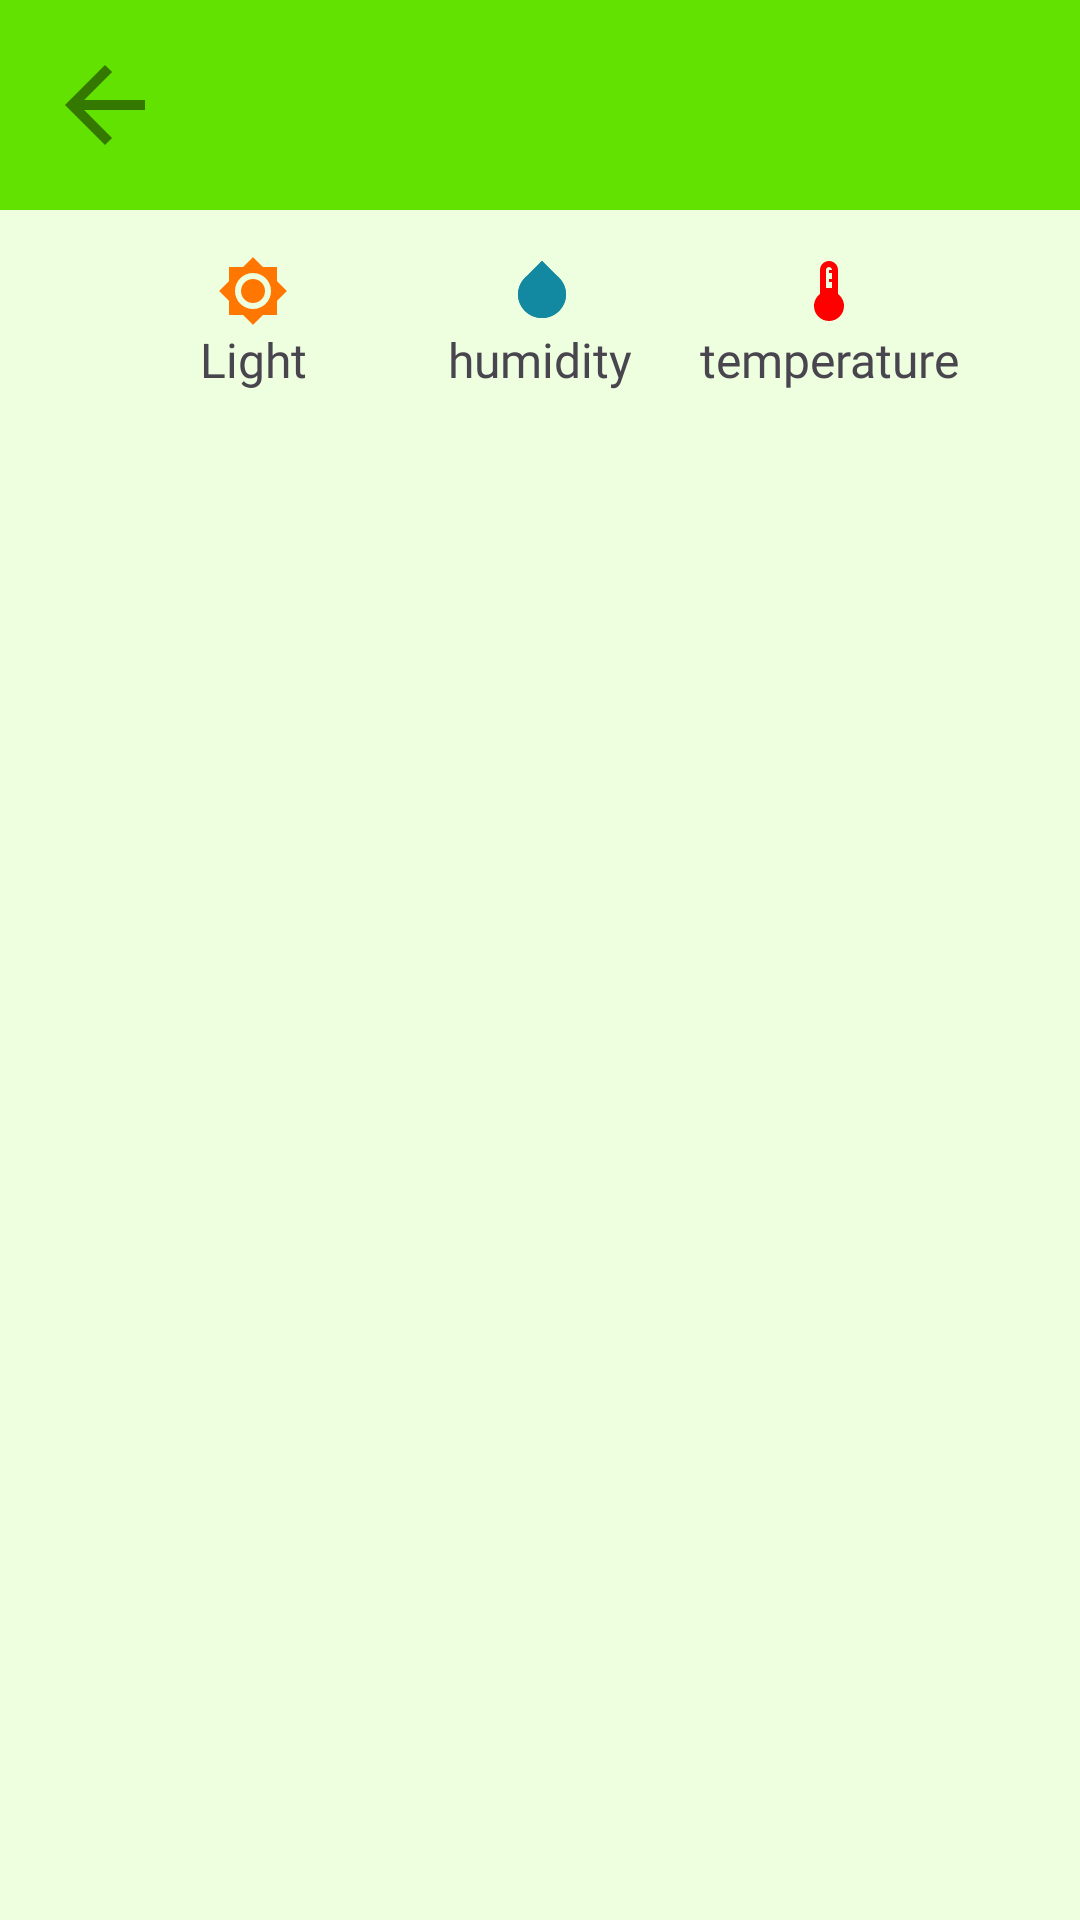

Icon bounding boxes for this 1080px x 1920px phone screenshot, format (x1=x1, y1=y1, x2=x2, y2=y2):
back: (x1=65, y1=65, x2=145, y2=145)
